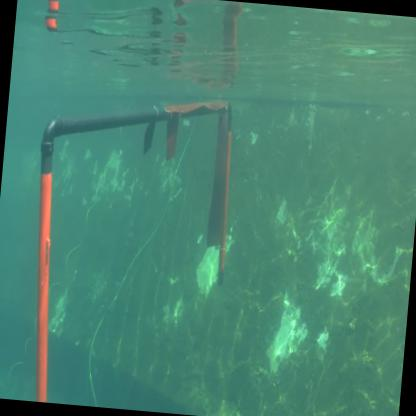gate: (18, 84, 242, 416)
